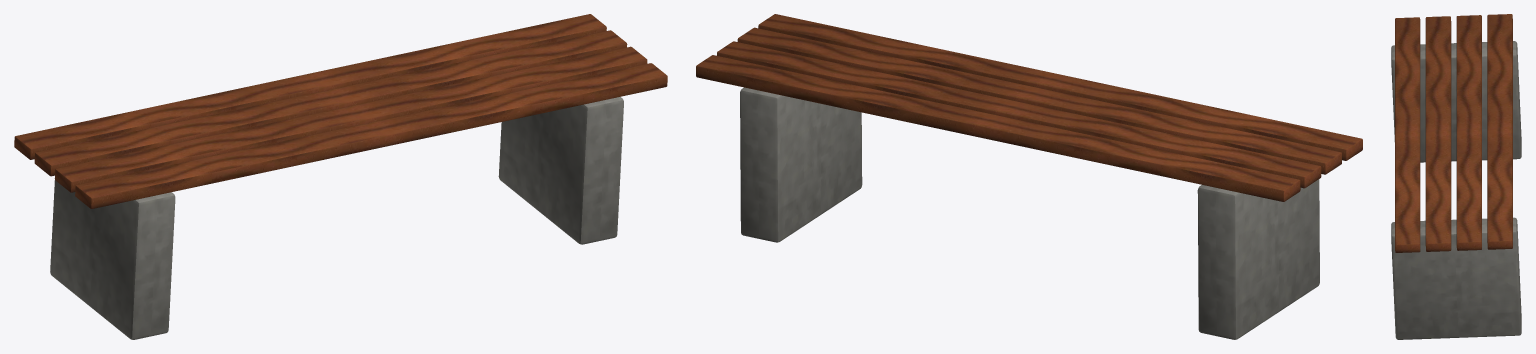
Rendered from PAV-MOB-001_anim.glb.
3 views of the same model, side by side, from view 1: azimuth 30°, elevation 25°; view 2: azimuth 150°, elevation 25°; view 3: azimuth 270°, elevation 25° (orthographic). The views are drawn at different scales.
Visible parts, largest first — view 1: PAV-MOB-001_anim0; view 2: PAV-MOB-001_anim0; view 3: PAV-MOB-001_anim0.
Boxes of the visible parts, x1=… form: PAV-MOB-001_anim0: x1=14, y1=14, x2=667, y2=339; PAV-MOB-001_anim0: x1=696, y1=14, x2=1362, y2=339; PAV-MOB-001_anim0: x1=1391, y1=14, x2=1521, y2=339.
Size of the model in its own units: 1.8 by 0.5207 by 0.4656.
2 materials, 2 textured.
